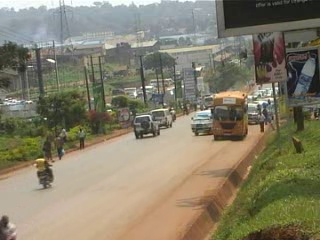Car: (132, 113, 163, 142)
Motorcycle: (29, 158, 59, 191)
